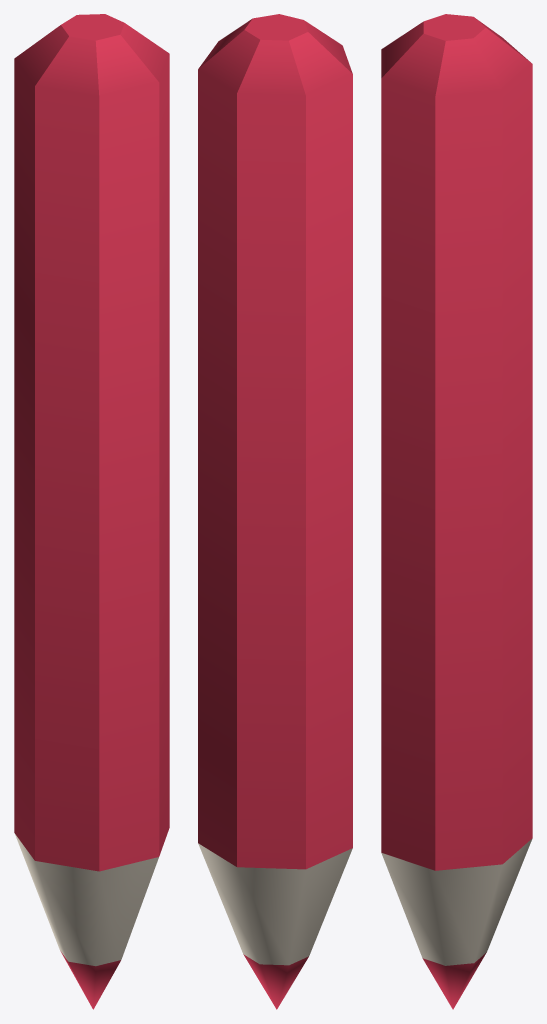
Rendered from RedPen.fbx.
The picture shows the model from 3 angles, left to right: view 1: azimuth 30°, elevation 25°; view 2: azimuth 150°, elevation 25°; view 3: azimuth 270°, elevation 25°; orthographic projection.
Parts seen in each view (by area): view 1: RedPen; view 2: RedPen; view 3: RedPen.
Part boxes in pixels (x1=…): RedPen: x1=14, y1=14, x2=169, y2=1009; RedPen: x1=198, y1=14, x2=352, y2=1009; RedPen: x1=381, y1=14, x2=532, y2=1009.
Bounding box in the file's own units: 131 × 910 × 127.
